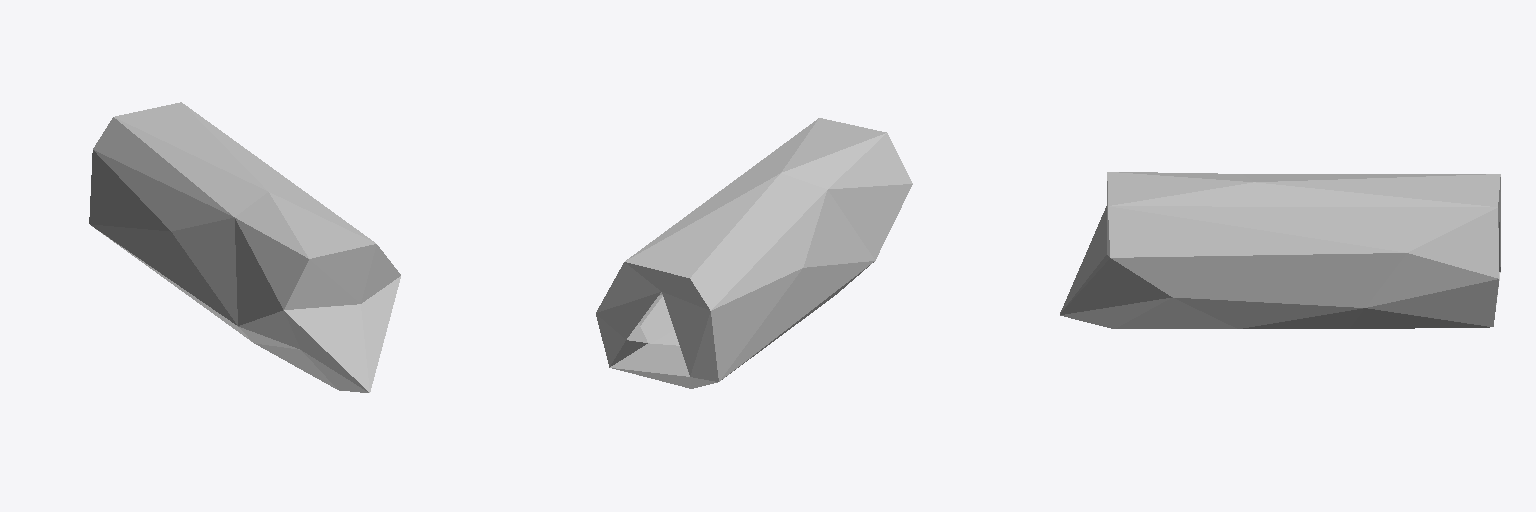
File: sim_ecub_1-1_r_hand_ring_1.obj
3 views of the same model, side by side, from view 1: azimuth 30°, elevation 25°; view 2: azimuth 150°, elevation 25°; view 3: azimuth 270°, elevation 25° (orthographic).
Bounding box in the file's own units: 17.09 × 19.17 × 52.09.